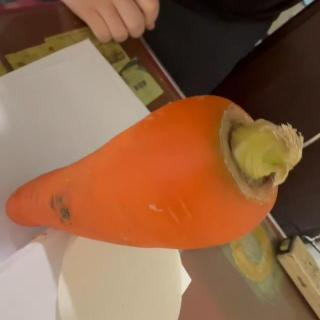carrot: (8, 95, 306, 249)
